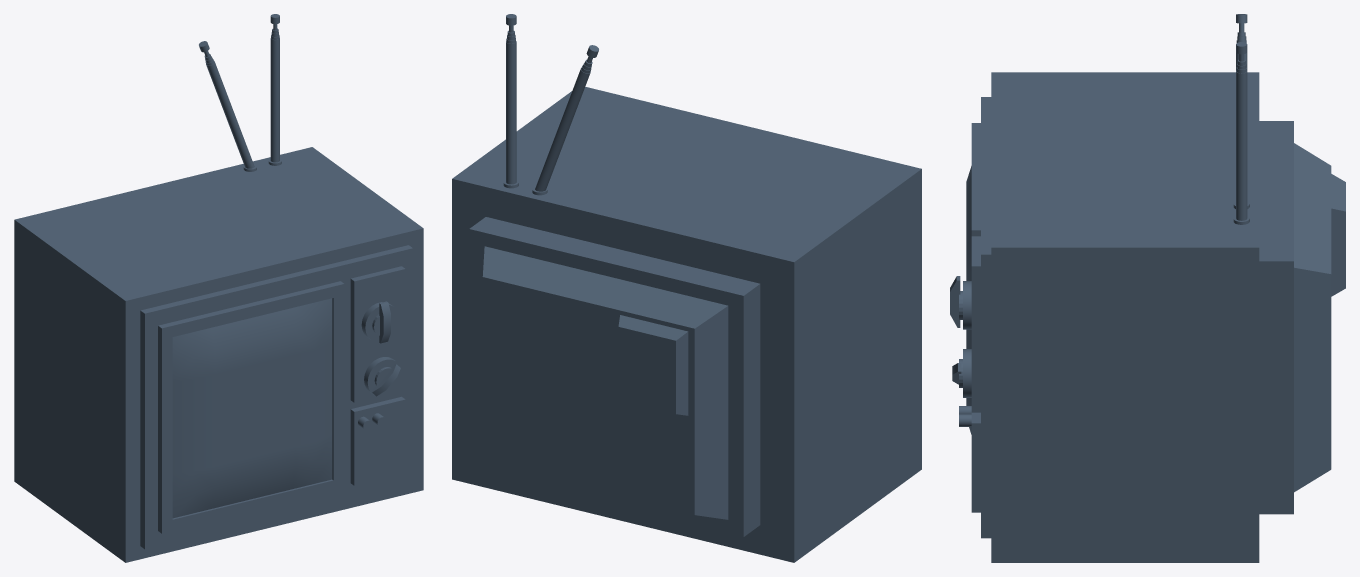
The picture shows the model from 3 angles, left to right: view 1: azimuth 30°, elevation 25°; view 2: azimuth 150°, elevation 25°; view 3: azimuth 270°, elevation 25°; orthographic projection. The views are drawn at different scales.
Visible parts, largest first — view 1: tv_06_low, tv_11_low, tv_07_low, tv_09_low, tv_08_low, tv_10_low, tv_17_low, tv_16_low, tv_19_low, tv_05_low; view 2: tv_06_low, tv_14_low, tv_12_low, tv_13_low, tv_17_low, tv_16_low; view 3: tv_06_low, tv_12_low, tv_14_low, tv_07_low, tv_17_low, tv_08_low, tv_13_low, tv_09_low, tv_10_low, tv_11_low, tv_05_low, tv_19_low.
Part boxes in pixels (<box>): tv_06_low: <box>14,147,423,562</box>; tv_11_low: <box>172,298,332,518</box>; tv_07_low: <box>140,245,412,549</box>; tv_09_low: <box>158,281,344,533</box>; tv_08_low: <box>350,266,405,402</box>; tv_10_low: <box>350,396,405,485</box>; tv_17_low: <box>270,14,279,162</box>; tv_16_low: <box>199,41,254,168</box>; tv_19_low: <box>364,357,402,396</box>; tv_05_low: <box>361,302,400,342</box>; tv_06_low: <box>452,87,921,562</box>; tv_14_low: <box>482,246,728,519</box>; tv_12_low: <box>469,217,760,536</box>; tv_13_low: <box>618,315,688,415</box>; tv_17_low: <box>506,14,516,184</box>; tv_16_low: <box>535,45,598,191</box>; tv_06_low: <box>991,72,1259,562</box>; tv_12_low: <box>1259,121,1293,514</box>; tv_14_low: <box>1294,143,1331,492</box>; tv_07_low: <box>981,97,991,538</box>; tv_17_low: <box>1236,42,1247,220</box>; tv_08_low: <box>971,236,980,412</box>; tv_13_low: <box>1331,174,1345,296</box>; tv_09_low: <box>971,123,980,236</box>; tv_10_low: <box>971,412,980,512</box>; tv_11_low: <box>966,166,971,434</box>; tv_05_low: <box>959,281,971,329</box>; tv_19_low: <box>959,349,971,397</box>.
Bounding box in the file's own units: 32.85 × 43.08 × 31.37.
